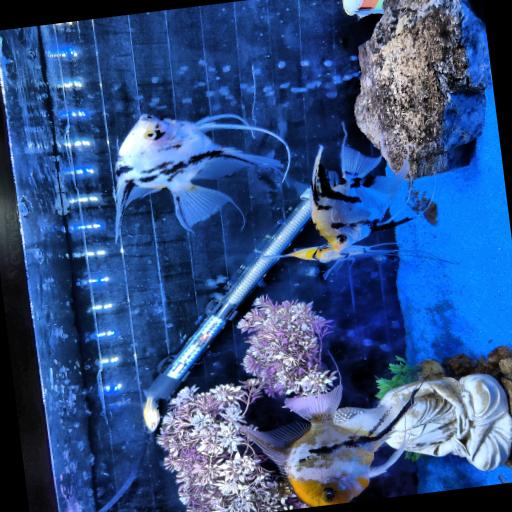Fish: (116, 114, 290, 239), (242, 385, 416, 506), (311, 126, 411, 251), (261, 243, 397, 279), (143, 394, 160, 432)
